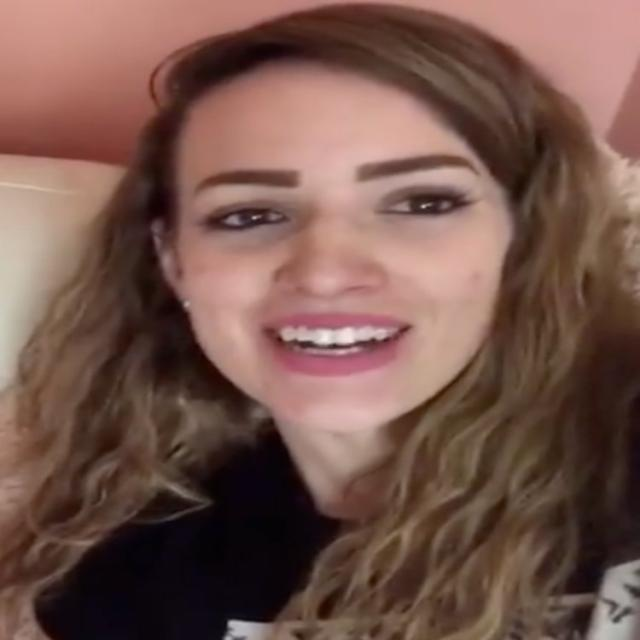mobile_phonerotation: (2, 1, 637, 638)
